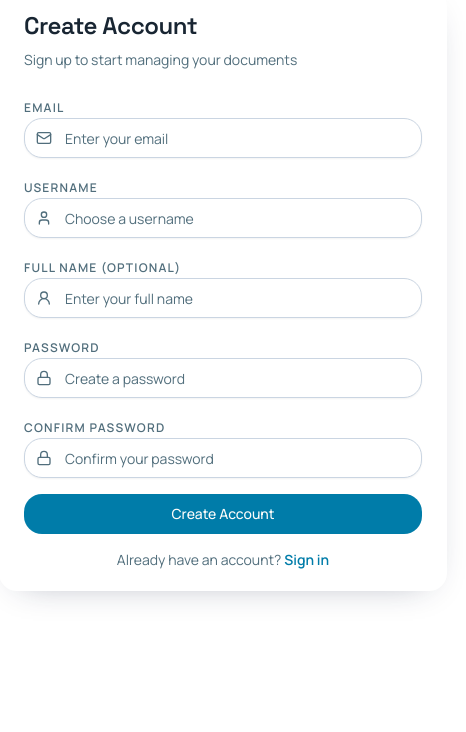
Test: RegisterForm › validates username length
Type "ab" into the field labelled "Username" at point(223, 218), box x1=24 y1=198 x2=422 y2=238
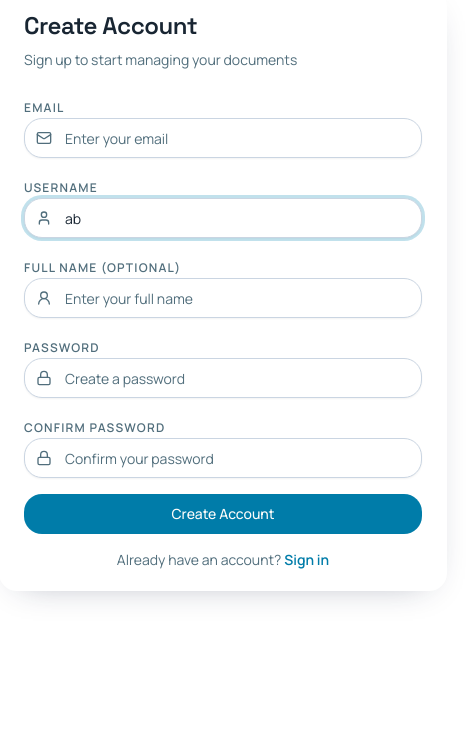
Click the button "Create Account" at point(223, 514), box x1=24 y1=494 x2=422 y2=534
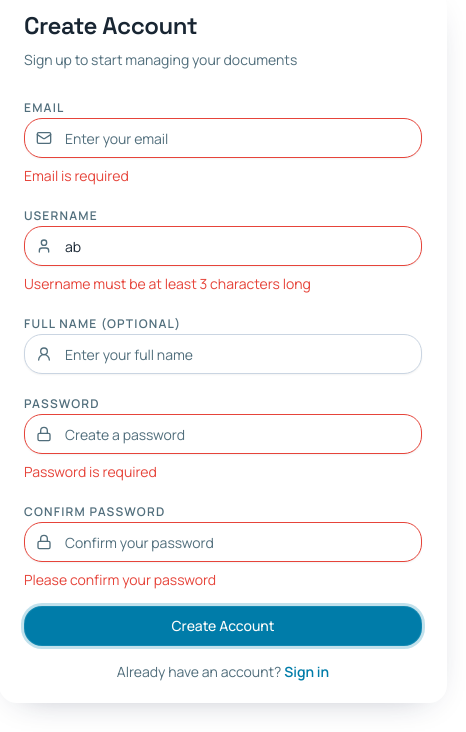
Expected: the text "Username must be at least 3 characters long" is shown, x1=24 y1=274 x2=311 y2=293
